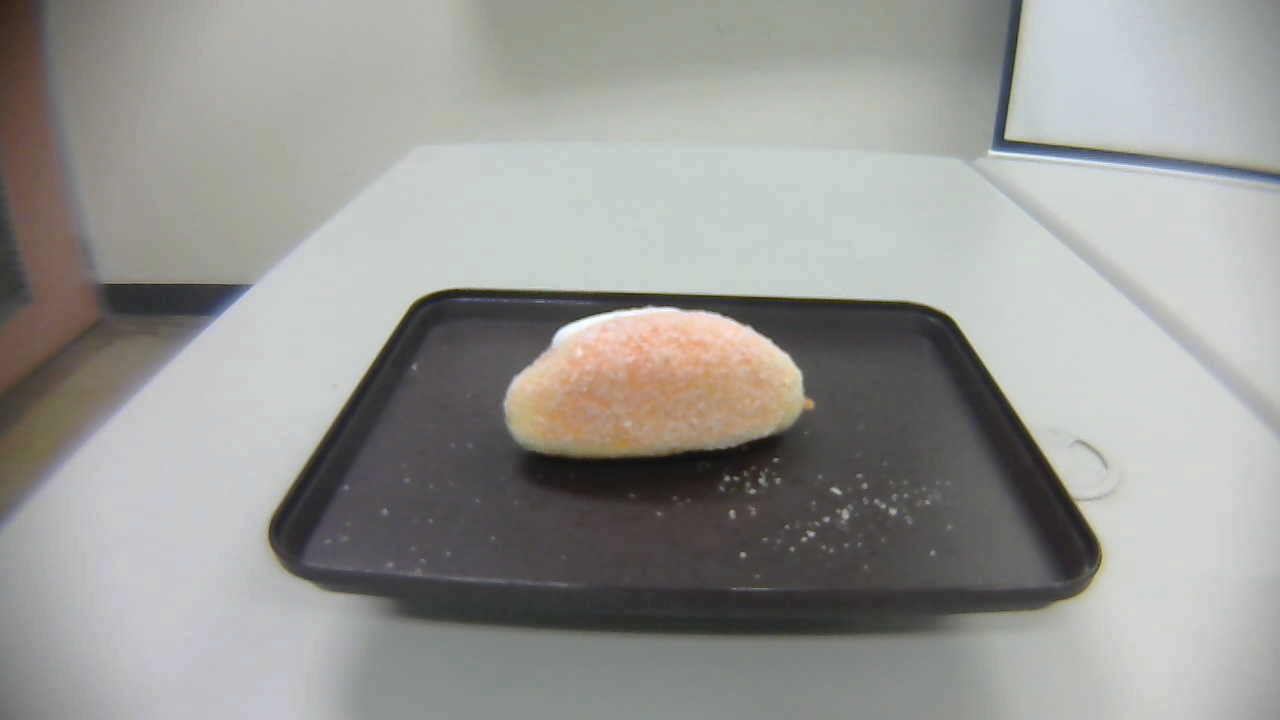coconut: (502, 305, 819, 463)
